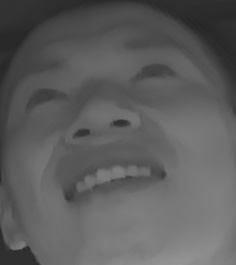eye: (122, 56, 180, 91), (20, 81, 67, 114)
mouth: (57, 154, 168, 206)
